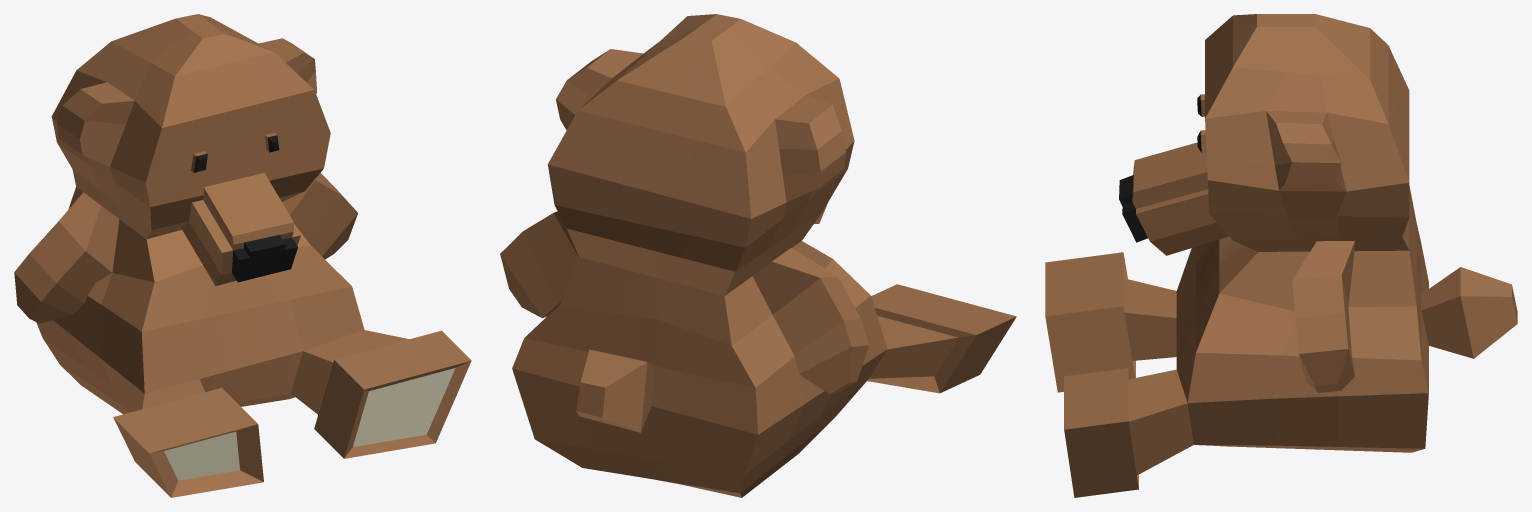
The model's file is Teddy.fbx.
The picture shows the model from 3 angles, left to right: view 1: azimuth 30°, elevation 25°; view 2: azimuth 150°, elevation 25°; view 3: azimuth 270°, elevation 25°; orthographic projection. The views are drawn at different scales.
Visible parts, largest first — view 1: Cube.028; view 2: Cube.028; view 3: Cube.028.
Boxes of the visible parts, <box> form: Cube.028: <box>14,14,471,497</box>; Cube.028: <box>500,14,1016,497</box>; Cube.028: <box>1045,14,1517,497</box>.
Bounding box in the file's own units: 0.4674 × 0.5107 × 0.538.
